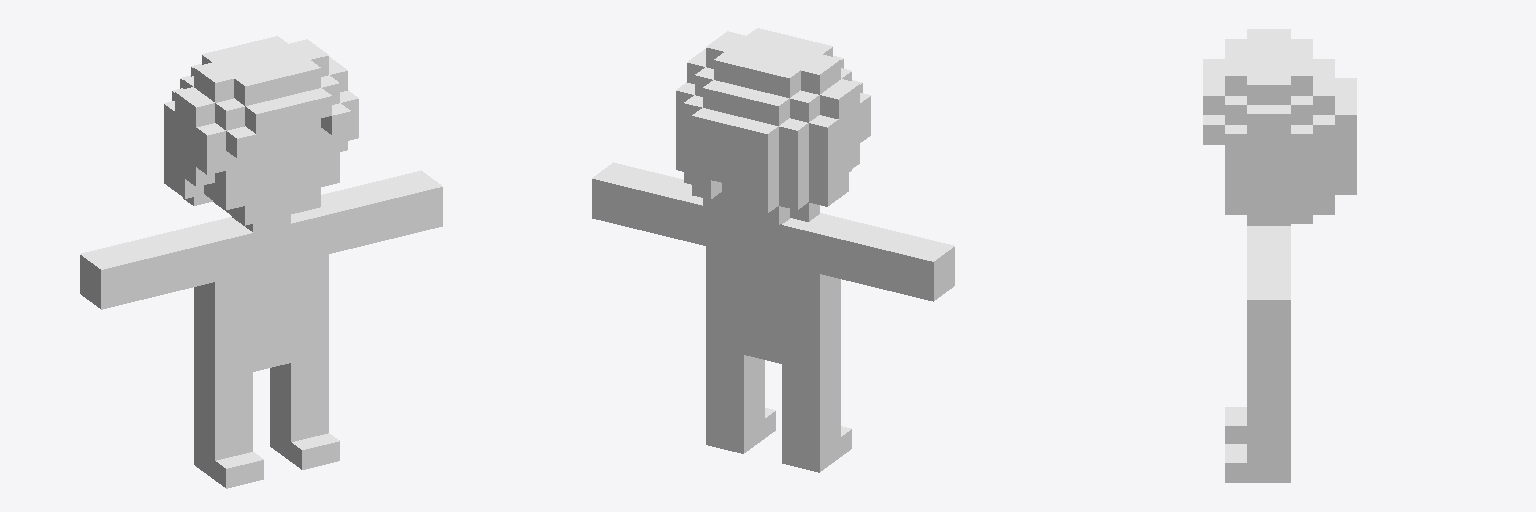
File: jordi.obj
The picture shows the model from 3 angles: view 1: azimuth 30°, elevation 25°; view 2: azimuth 150°, elevation 25°; view 3: azimuth 270°, elevation 25°; orthographic projection.
Parts seen in each view (by area): view 1: object 1; view 2: object 1; view 3: object 1.
Part boxes in pixels (left/top/right/bottom): object 1: left=80, top=36, right=442, bottom=488; object 1: left=592, top=28, right=954, bottom=472; object 1: left=1203, top=29, right=1356, bottom=482.
Size of the model in its own units: 1.8 by 2 by 0.7.